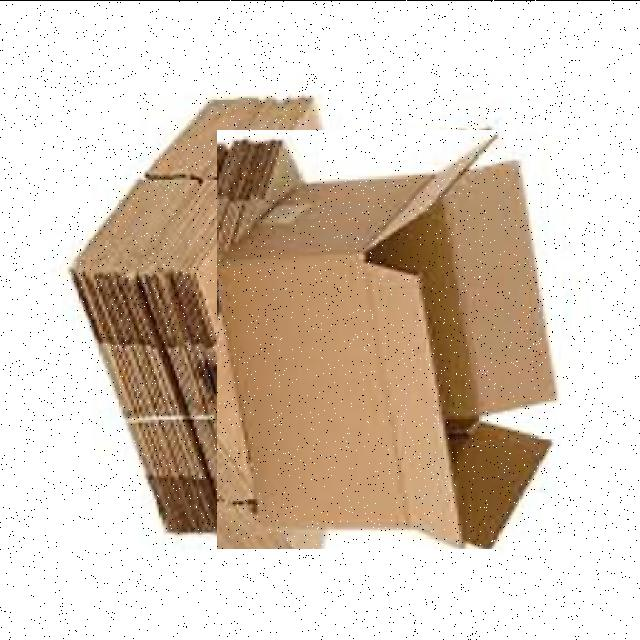defect: (217, 129, 561, 548)
